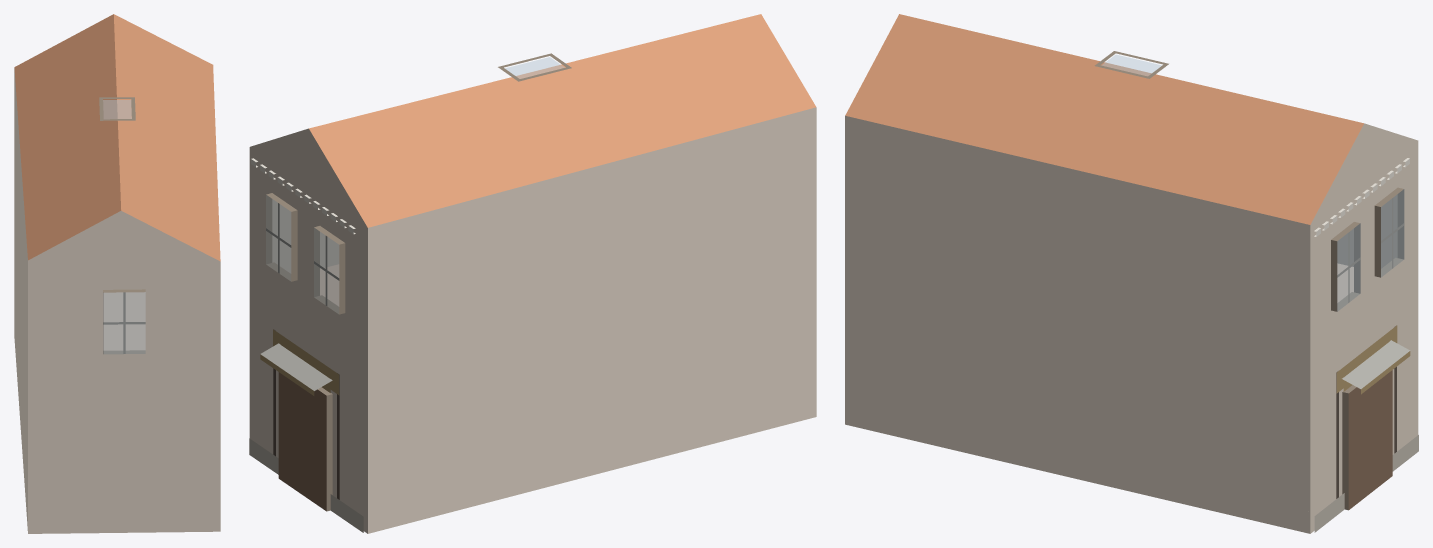
The picture shows the model from 3 angles, left to right: view 1: azimuth 30°, elevation 25°; view 2: azimuth 150°, elevation 25°; view 3: azimuth 270°, elevation 25°; orthographic projection. The views are drawn at different scales.
Parts seen in each view (by area): view 1: N-48; view 2: N-48; view 3: N-48.
Boxes of the visible parts, x1,y1,x2,y2 form: N-48: (14, 14, 220, 533); N-48: (249, 14, 816, 533); N-48: (845, 14, 1418, 533).
Bounding box in the file's own units: 9.29 × 8.43 × 11.78.
